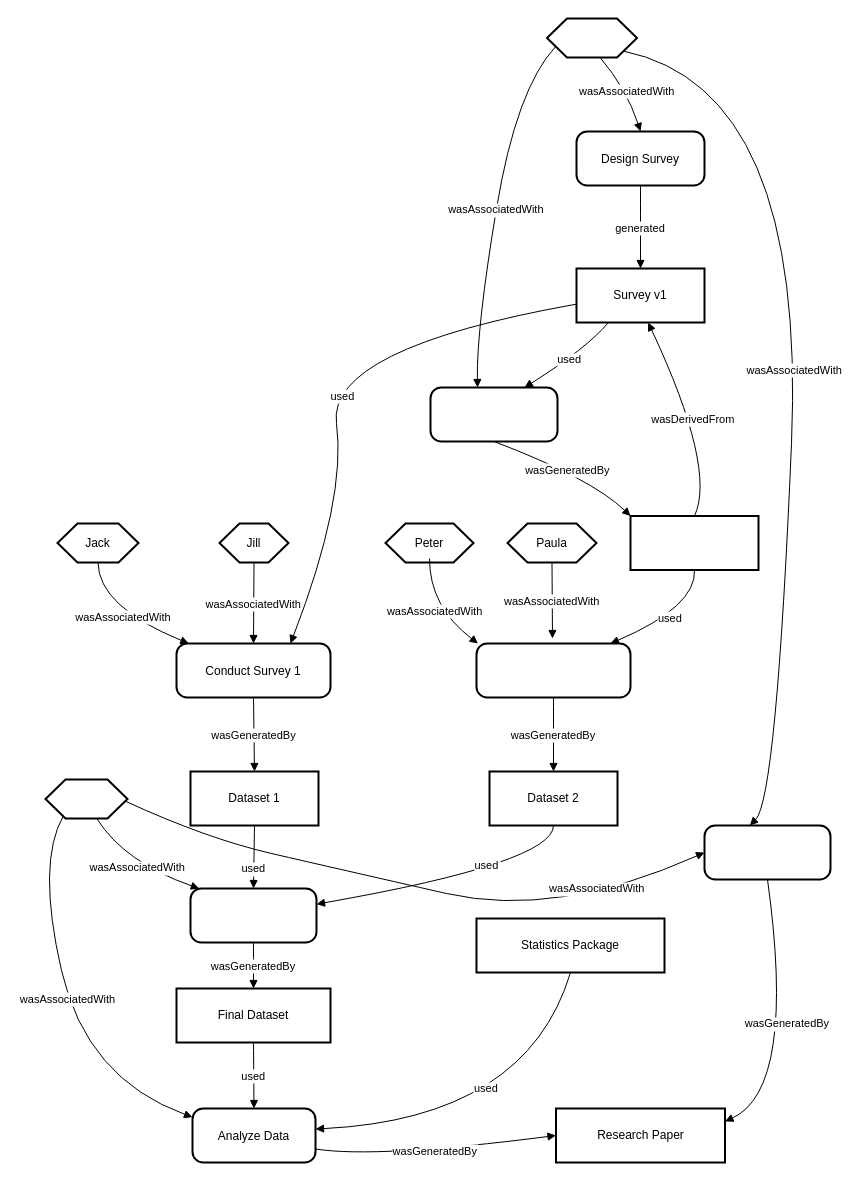
Some shapes in this 860 by 1180 pixel diagram are drawn without their labels. The shapes that lost their labels are listed below. From the top down, each one's box as (x1, y1, x2, y2) in pixels, then its label:
(546, 17, 638, 58): Laura
(429, 386, 558, 442): Revise Survey
(629, 514, 759, 570): Survey v2
(475, 642, 631, 698): Conduct Survey 2
(44, 778, 128, 819): Zack
(703, 824, 831, 880): Publish Paper
(189, 887, 317, 943): Compile Data
